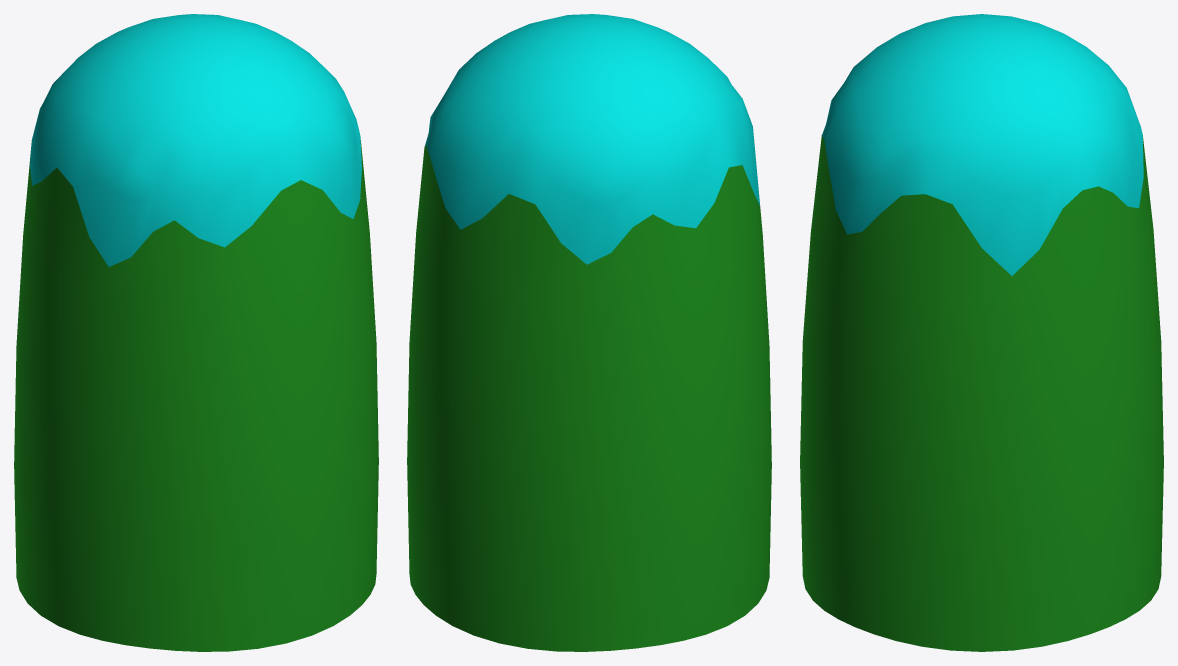
Rendered from montainGreen.fbx.
3 views of the same model, side by side, from view 1: azimuth 30°, elevation 25°; view 2: azimuth 150°, elevation 25°; view 3: azimuth 270°, elevation 25° (orthographic).
Parts seen in each view (by area): view 1: montanha, cume; view 2: montanha, cume; view 3: montanha, cume.
Boxes of the visible parts, bbox=[...] form: montanha: bbox=[14, 137, 378, 651]; cume: bbox=[30, 14, 361, 266]; montanha: bbox=[407, 145, 771, 651]; cume: bbox=[424, 14, 759, 264]; montanha: bbox=[800, 135, 1163, 651]; cume: bbox=[822, 14, 1143, 275].
Bounding box in the file's own units: 3145 × 5201 × 3145.
